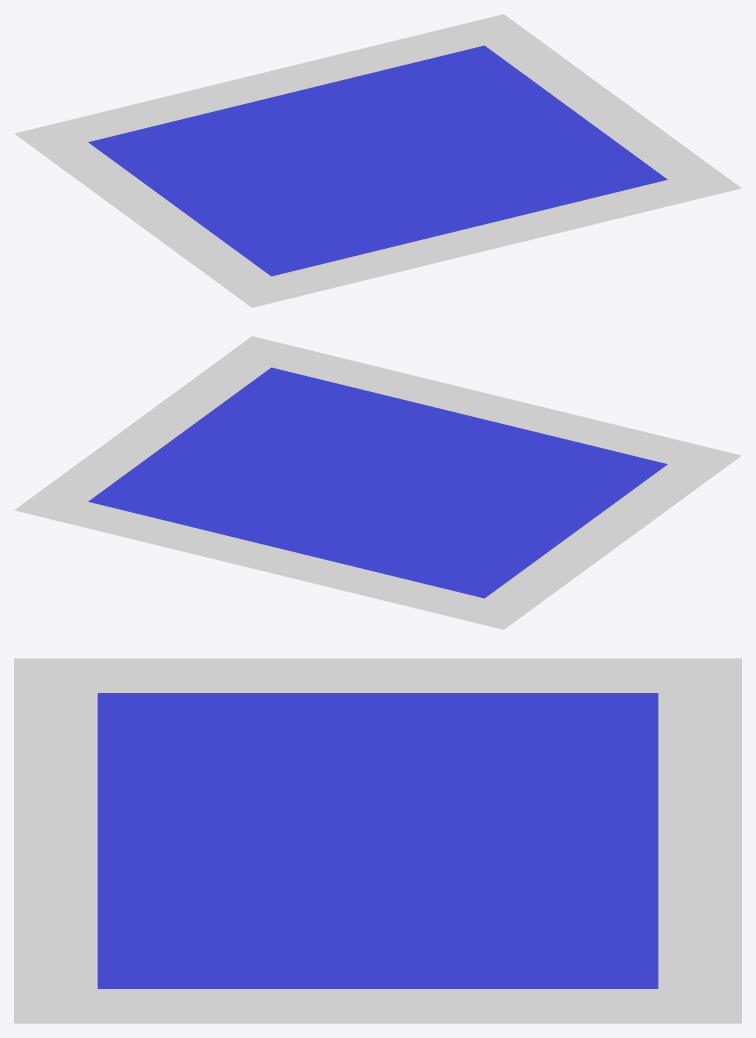
Rendered from PagesTest045.fbx.
3 views of the same model, one above another, from view 1: azimuth 30°, elevation 25°; view 2: azimuth 150°, elevation 25°; view 3: azimuth 270°, elevation 25° (orthographic). The views are drawn at different scales.
Parts seen in each view (by area): view 1: Page3.001; view 2: Page3.001; view 3: Page3.001.
Boxes of the visible parts, x1=… form: Page3.001: x1=14, y1=14, x2=741, y2=307; Page3.001: x1=14, y1=336, x2=741, y2=629; Page3.001: x1=14, y1=658, x2=741, y2=1023.
Size of the model in its own units: 1782 by 2.36 by 1500.
